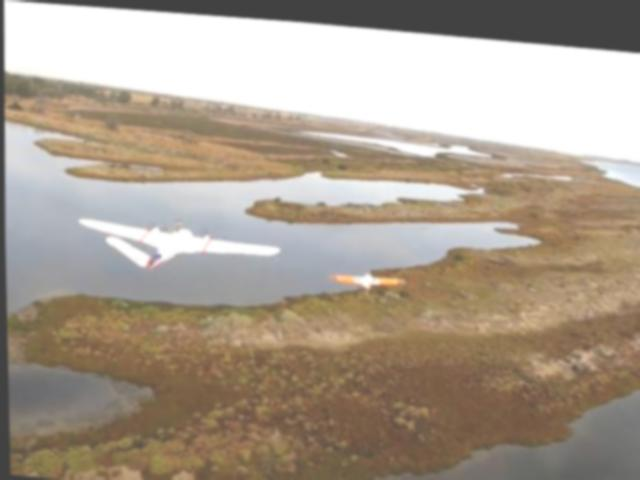uav: (75, 209, 280, 280), (326, 261, 410, 290)
